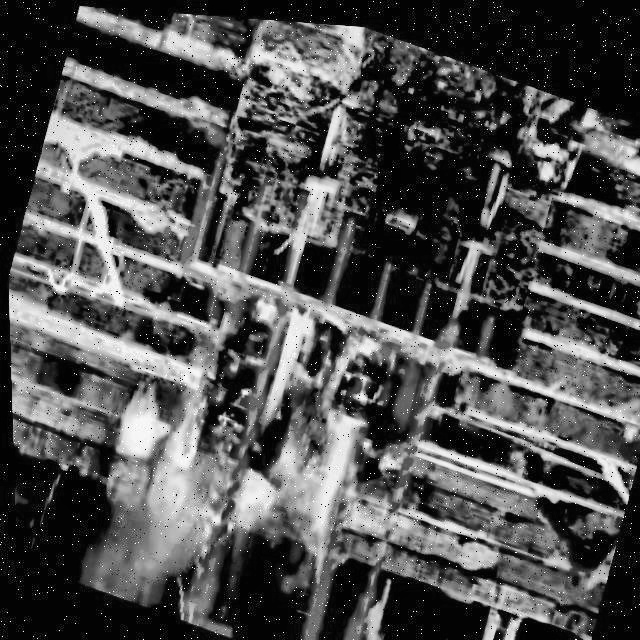Fire: (219, 291, 396, 572)
